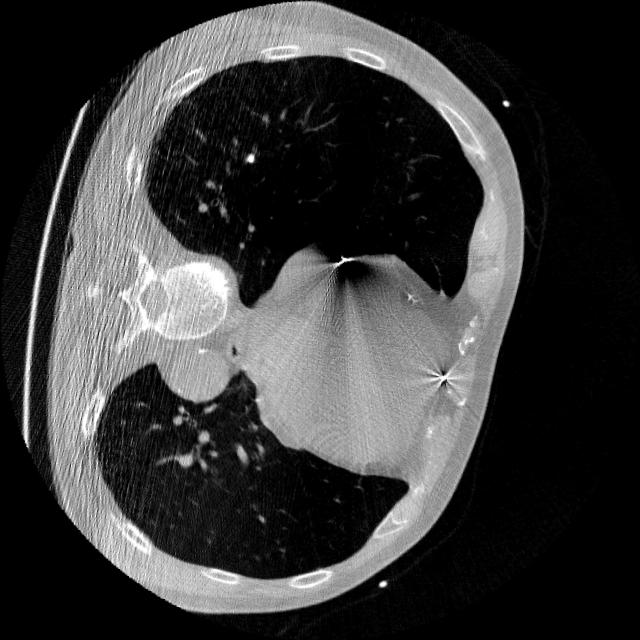nodule: (240, 145, 264, 169)
